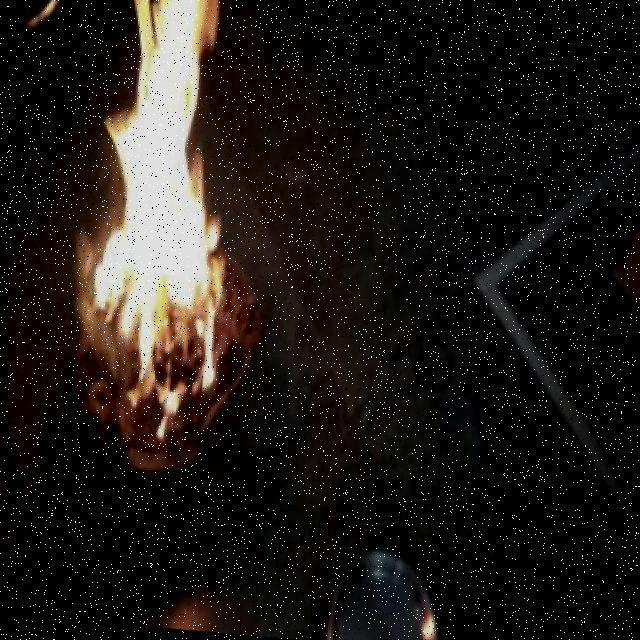Fire: (58, 0, 257, 455)
